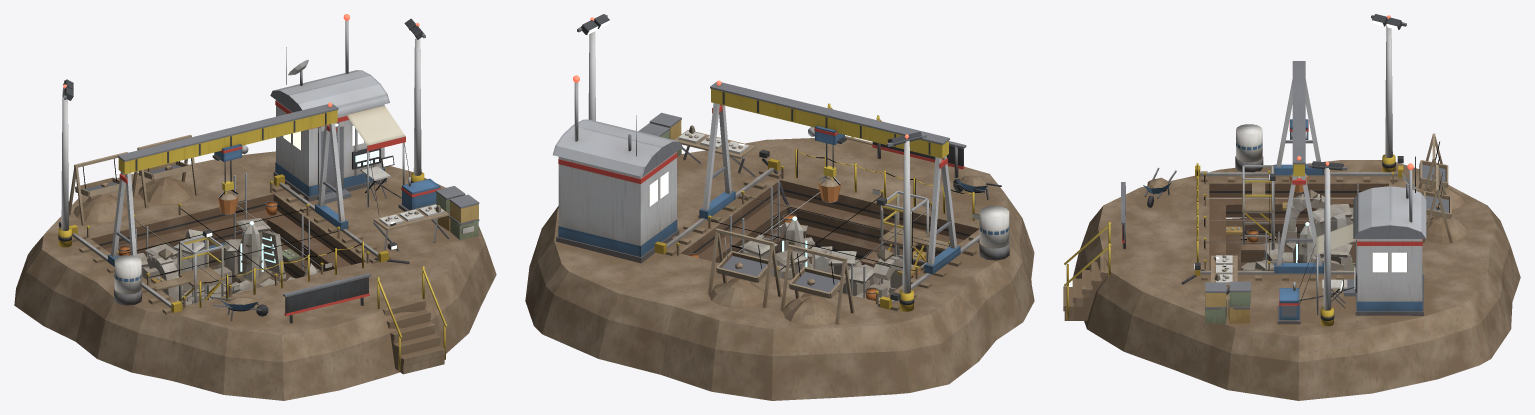
File: excavation_site.glb
The picture shows the model from 3 angles, left to right: view 1: azimuth 30°, elevation 25°; view 2: azimuth 150°, elevation 25°; view 3: azimuth 270°, elevation 25°; orthographic projection. The views are drawn at different scales.
Visible parts, largest first — view 1: Build0Body, Build6Body, CraneBody, Build1Body, Build3Body, Build5Body, Build7Body, MastsBody, OptAwningBody, Build4Body, Build9Body, Build2Body (+7 smaller); view 2: Build0Body, Build6Body, CraneBody, Build5Body, Build1Body, Build3Body, MastsBody, Build4Body, Build7Body, Build2Body, Build8Body, Sieve1Body (+4 smaller); view 3: Build0Body, Build6Body, CraneBody, Build1Body, MastsBody, Build7Body, Build3Body, Build5Body, Build4Body, Build2Body, Build8Body, OptAwningBody (+4 smaller).
Part boxes in pixels (bbox=[...]): Build0Body: bbox=[14, 151, 496, 400]; Build6Body: bbox=[270, 20, 389, 203]; CraneBody: bbox=[108, 102, 348, 266]; Build1Body: bbox=[130, 218, 318, 304]; Build3Body: bbox=[135, 172, 363, 307]; Build5Body: bbox=[69, 134, 198, 225]; Build7Body: bbox=[373, 186, 479, 251]; MastsBody: bbox=[58, 18, 425, 247]; OptAwningBody: bbox=[346, 105, 409, 214]; Build4Body: bbox=[69, 174, 390, 314]; Build9Body: bbox=[283, 273, 371, 323]; Build2Body: bbox=[86, 181, 369, 307]; Build0Body: bbox=[525, 103, 1034, 400]; Build6Body: bbox=[552, 82, 682, 263]; CraneBody: bbox=[699, 80, 960, 274]; Build5Body: bbox=[708, 228, 854, 325]; Build1Body: bbox=[739, 216, 902, 300]; Build3Body: bbox=[730, 148, 974, 298]; MastsBody: bbox=[577, 14, 926, 311]; Build4Body: bbox=[654, 158, 979, 311]; Build7Body: bbox=[638, 112, 755, 176]; Build2Body: bbox=[676, 166, 979, 304]; Build8Body: bbox=[762, 158, 1009, 260]; Sieve1Body: bbox=[716, 237, 773, 282]; Build0Body: bbox=[1063, 160, 1520, 400]; Build6Body: bbox=[1344, 156, 1426, 315]; CraneBody: bbox=[1274, 61, 1323, 273]; Build1Body: bbox=[1241, 189, 1355, 270]; MastsBody: bbox=[1307, 14, 1406, 326]; Build7Body: bbox=[1205, 255, 1250, 323]; Build3Body: bbox=[1196, 163, 1358, 270]; Build5Body: bbox=[1418, 133, 1467, 243]; Build4Body: bbox=[1195, 165, 1403, 280]; Build2Body: bbox=[1204, 170, 1394, 270]; Build8Body: bbox=[1181, 124, 1354, 300]; OptAwningBody: bbox=[1299, 223, 1356, 315].
Bounding box in the file's own units: 14.07 × 7.13 × 13.75.
Materials: 30 (21 with a texture image).
